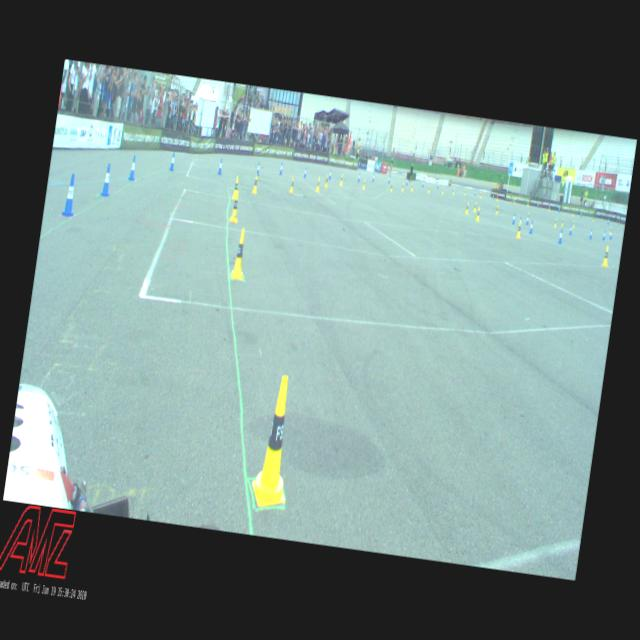blue_cone: (62, 174, 79, 218), (101, 164, 113, 196), (128, 155, 138, 181), (170, 152, 177, 170), (558, 228, 564, 244), (218, 158, 224, 174), (256, 162, 261, 176), (529, 220, 534, 233), (279, 162, 283, 175), (589, 228, 593, 240), (512, 213, 516, 224), (602, 230, 606, 240), (569, 225, 573, 235), (526, 215, 530, 225), (609, 230, 613, 240), (304, 168, 307, 178), (329, 170, 332, 180), (372, 174, 375, 182), (358, 173, 360, 182), (388, 176, 390, 184), (406, 178, 408, 186), (422, 181, 424, 188), (437, 182, 439, 189), (474, 189, 476, 196), (558, 205, 560, 212), (608, 218, 610, 225), (492, 194, 494, 200), (513, 198, 515, 204), (537, 202, 539, 208), (580, 212, 582, 217)
yellow_cone: (249, 373, 302, 510), (230, 227, 250, 280), (230, 192, 242, 222), (602, 245, 610, 266), (232, 176, 239, 199), (252, 174, 260, 194), (289, 176, 295, 194), (316, 177, 322, 193), (516, 222, 522, 238), (324, 174, 330, 188), (465, 202, 470, 215), (476, 208, 480, 222), (362, 178, 366, 190), (340, 173, 344, 185), (473, 202, 477, 213), (572, 220, 576, 229), (411, 182, 414, 192), (554, 218, 557, 228), (427, 185, 430, 194), (390, 183, 393, 192), (441, 186, 444, 195), (452, 187, 455, 196), (561, 218, 564, 227), (463, 188, 466, 196), (609, 227, 612, 234), (402, 182, 404, 191), (496, 205, 498, 214), (479, 192, 482, 198), (496, 194, 498, 202), (548, 204, 550, 212), (514, 198, 516, 205), (528, 200, 530, 207), (572, 210, 574, 217), (592, 215, 594, 222), (618, 222, 620, 229)
